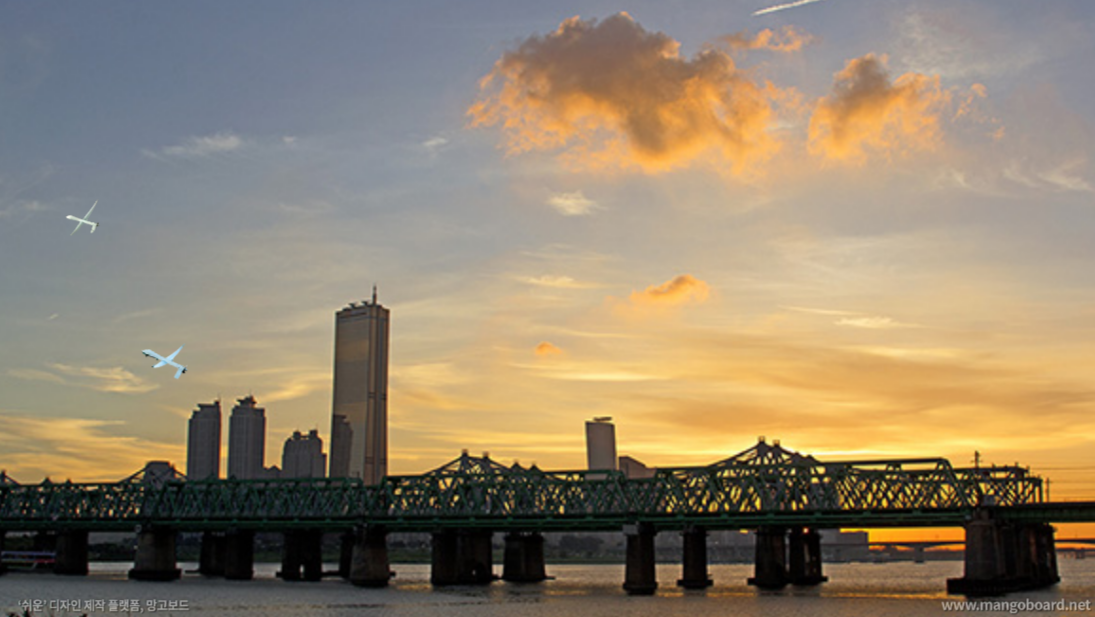military drone: (140, 343, 188, 380), (64, 198, 99, 236)
